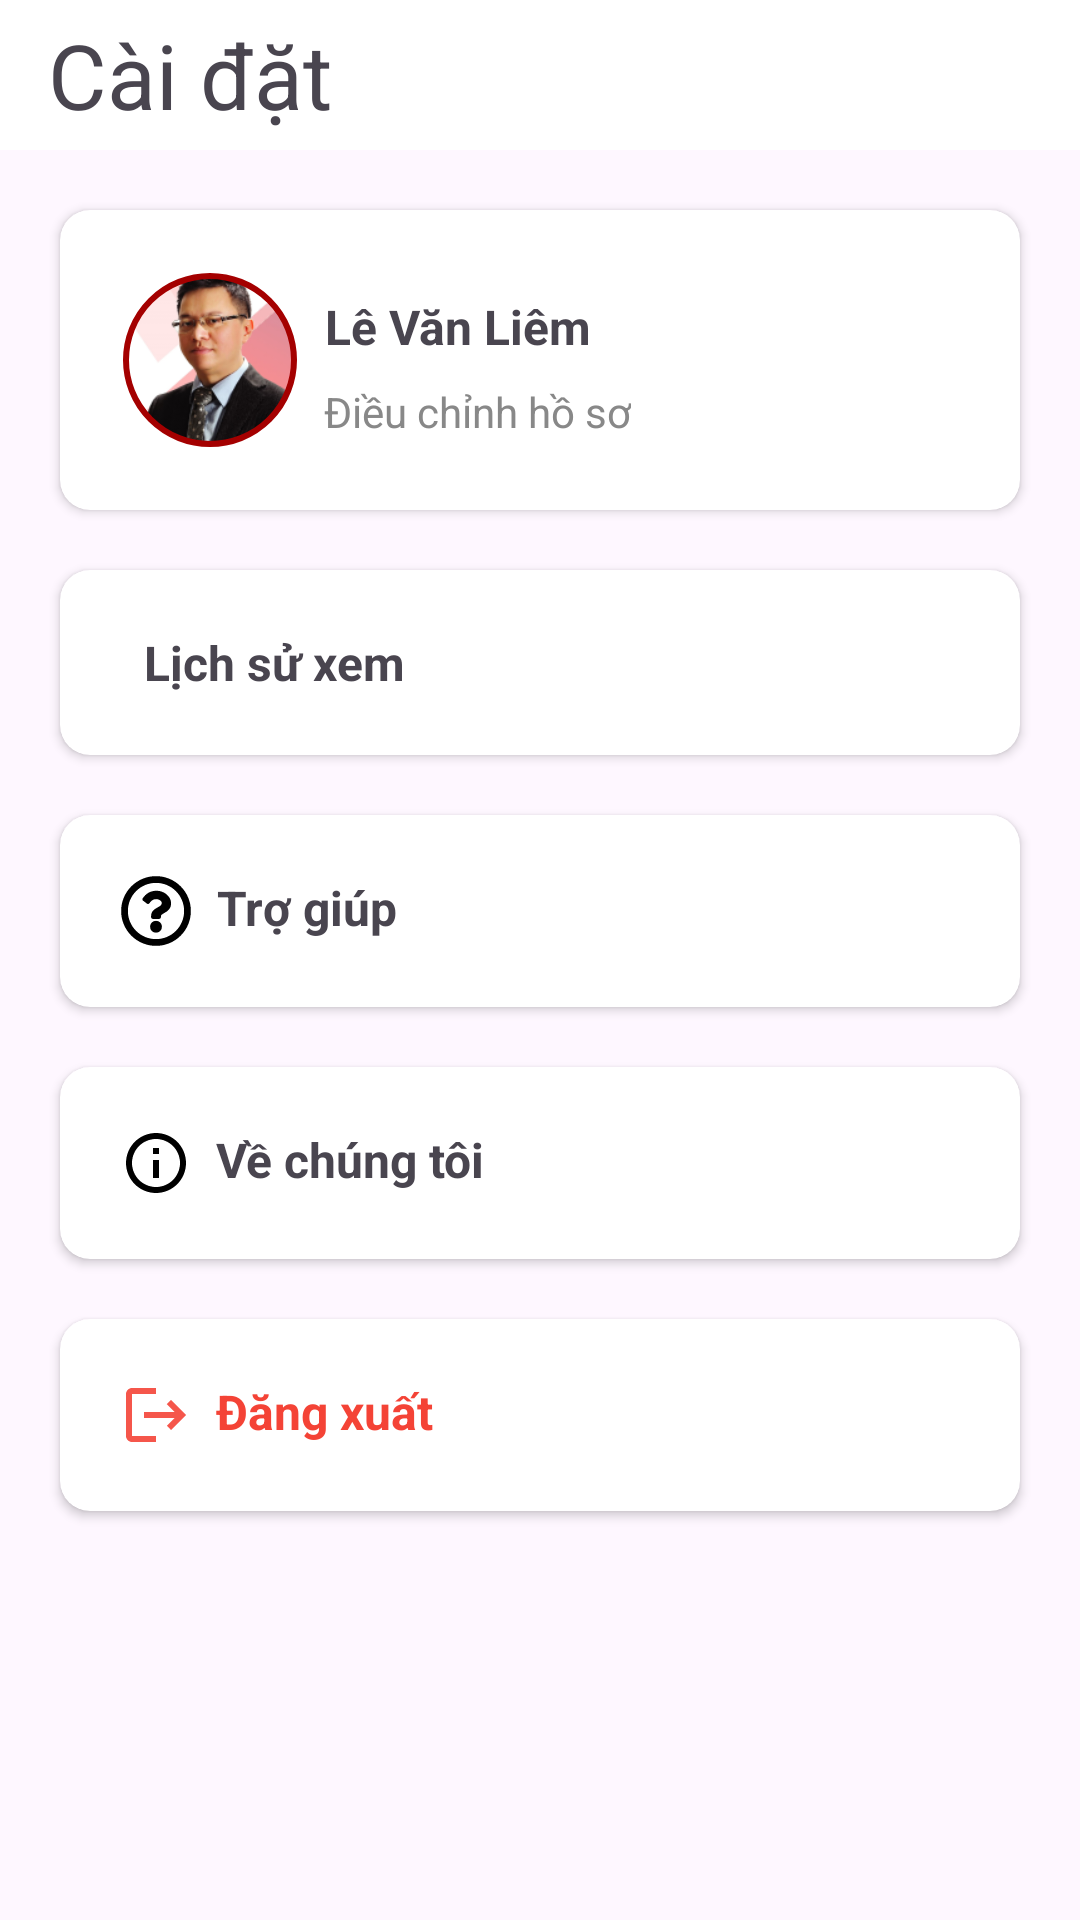

Named icons in this screenshot (1080x1920) and their centers, (x=x, y=y):
about: (x=156, y=1163)
ava: (x=210, y=360)
help: (x=156, y=911)
